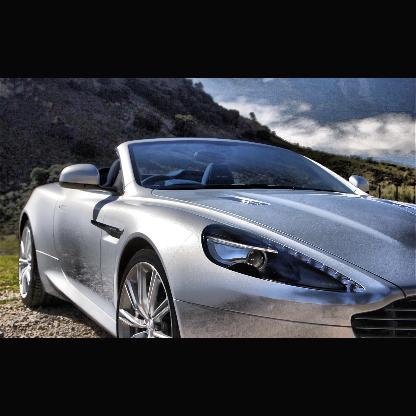Aston Martin Virage Convertible 2012: (17, 137, 415, 337)
